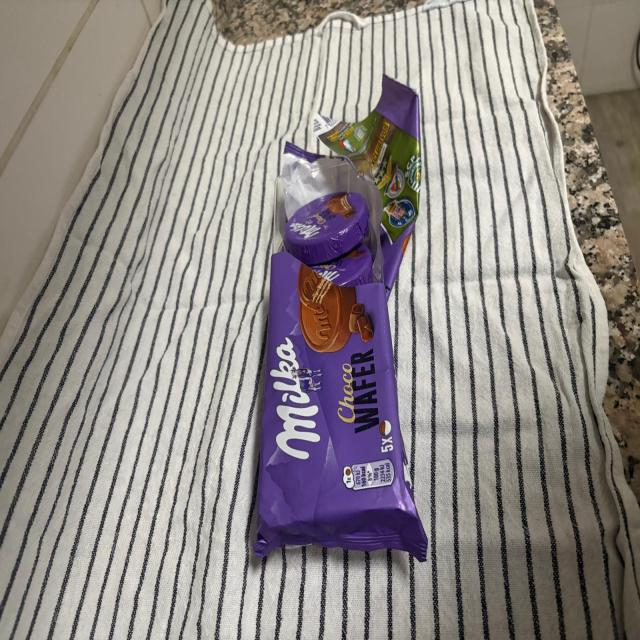damaged_package: (249, 76, 427, 566)
